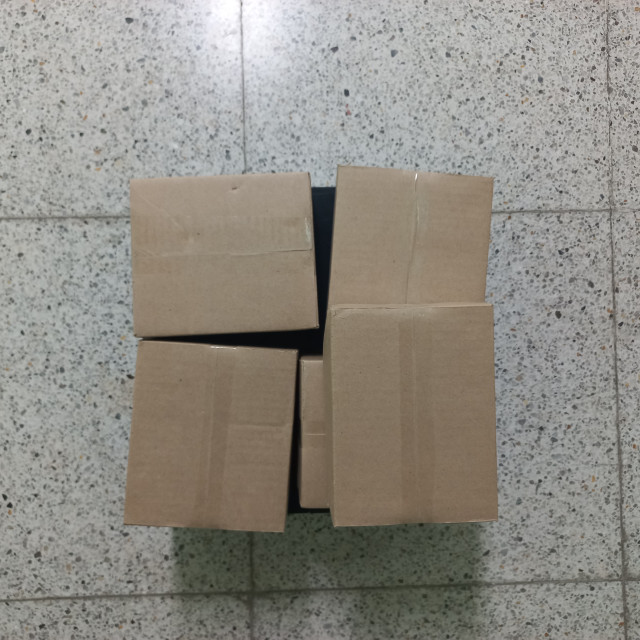box: (185, 112, 317, 341), (333, 102, 471, 305), (318, 300, 465, 472), (185, 323, 319, 482)
